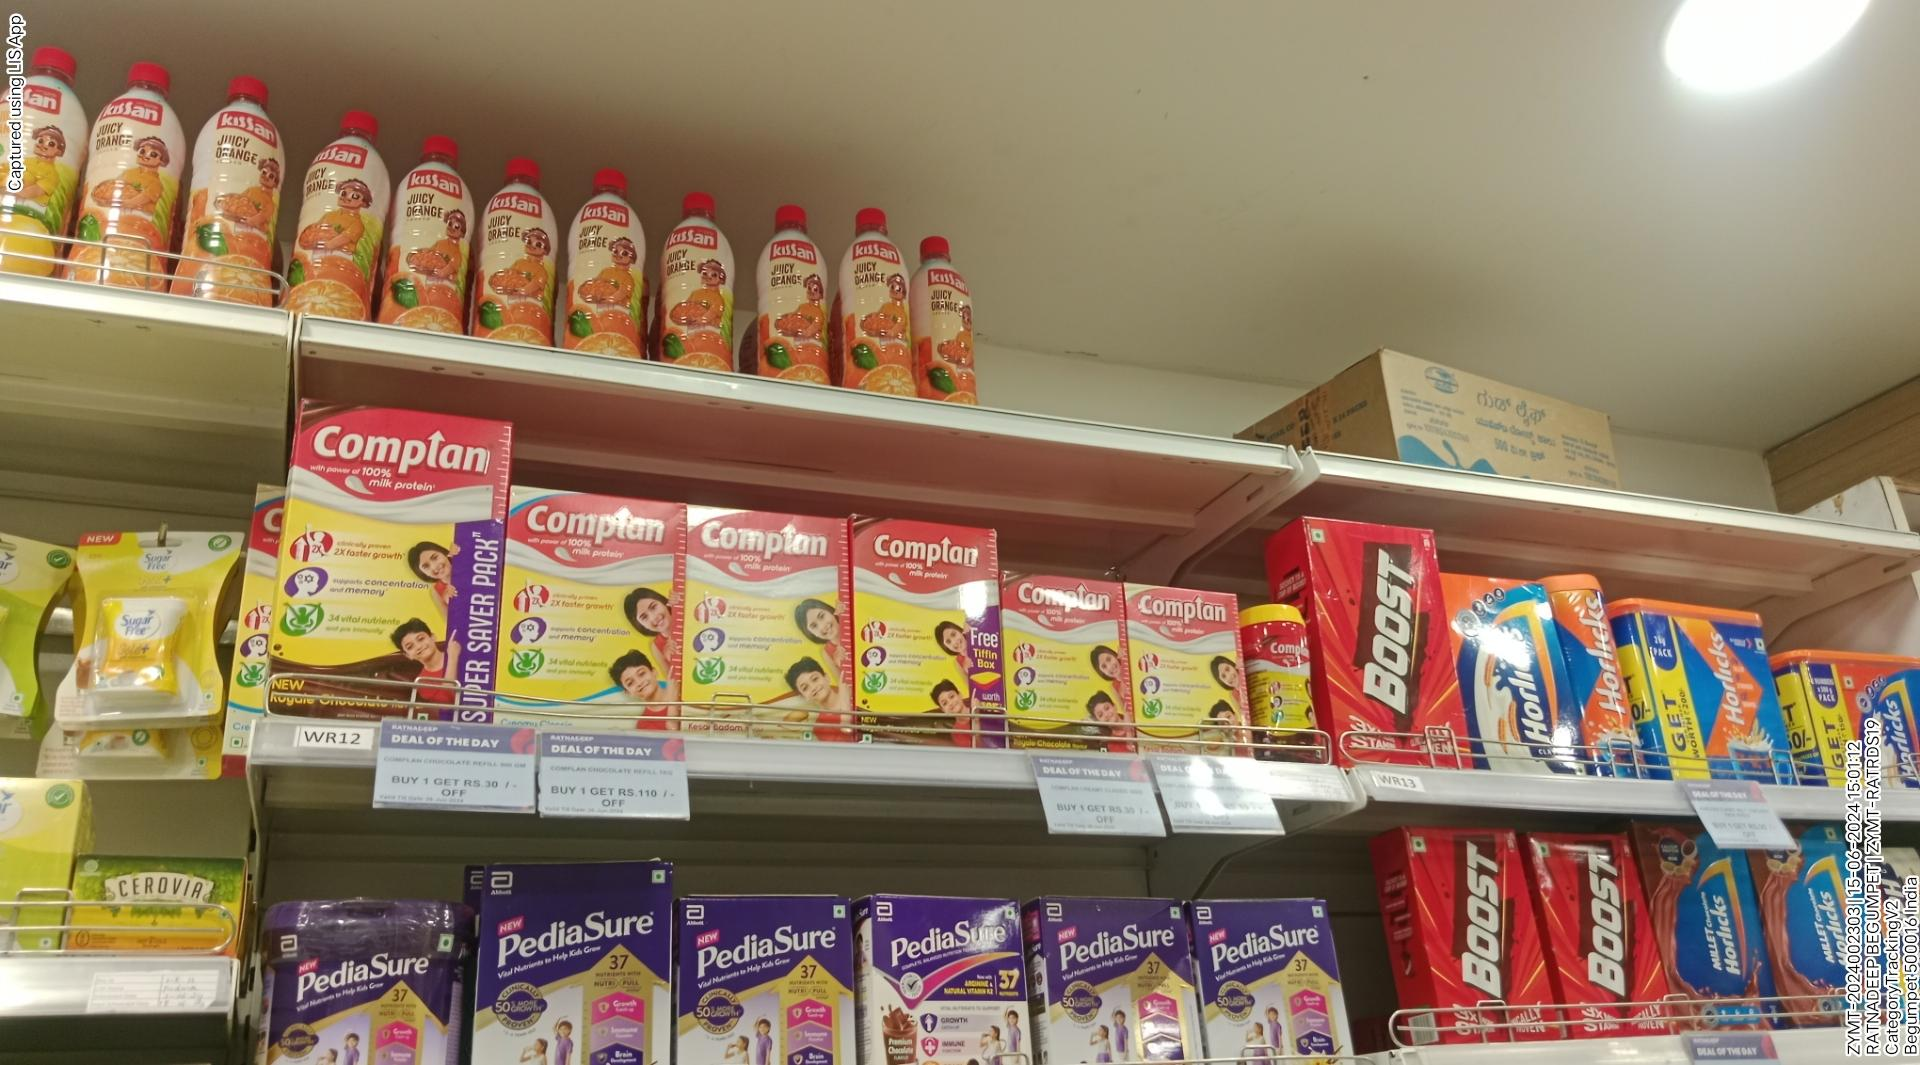COMPLAN_CHOCOLATE_1_KG_PACK: (285, 411, 504, 723)
COMPLAN_CHOCOLATE_200_GMS_JAR: (1245, 603, 1326, 763)
COMPLAN_CHOCOLATE_200_GMS_PACK: (1003, 577, 1133, 752)
COMPLAN_CHOCOLATE_500_GMS_PACK: (854, 519, 999, 745)
COMPLAN_CREAMY_CLASSIC_500_G_PACK: (509, 489, 687, 737)
COMPLAN_KESAR_BADAM_200_GMS_PACK: (1134, 588, 1245, 753)
COMPLAN_KESAR_BADAM_500_GMS_PACK: (690, 508, 852, 740)
HORLICK_MALT_1_KG_CONTAINER: (1628, 605, 1790, 780), (1797, 648, 1920, 779)
